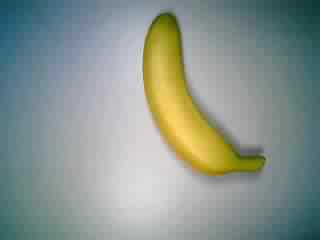banana: (140, 11, 268, 180)
